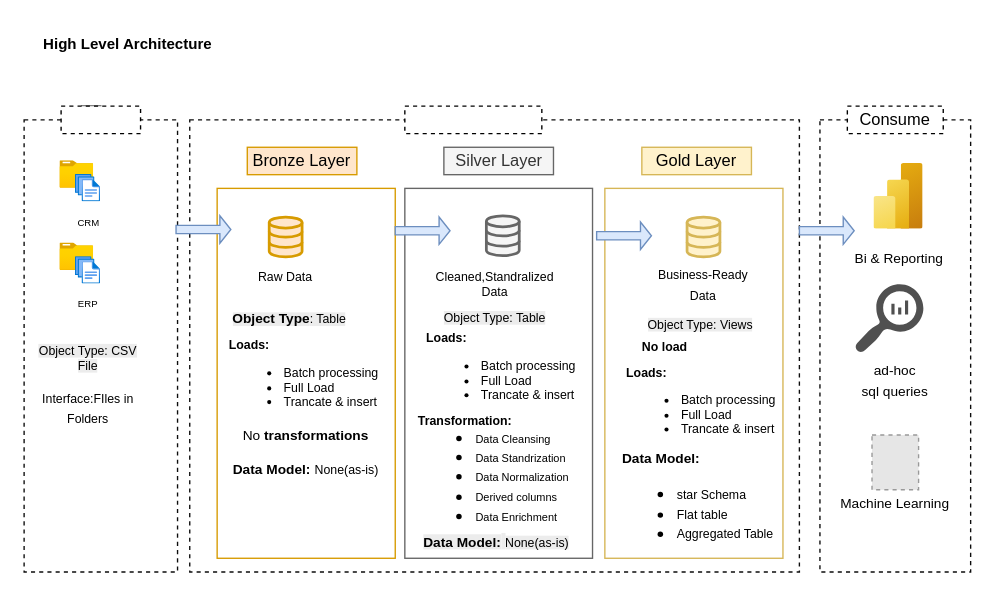
Some shapes in this 995 by 614 pixel diagram are drawn without their labels. Grey dashed boxes stand in for pictures. The shapes that lost their labels are listed below. From the top down, each one's box as (x1, y1, x2, y2) in pixels, then its label:
(60, 105, 141, 134): sources
(403, 105, 542, 134): Data Warehouse
